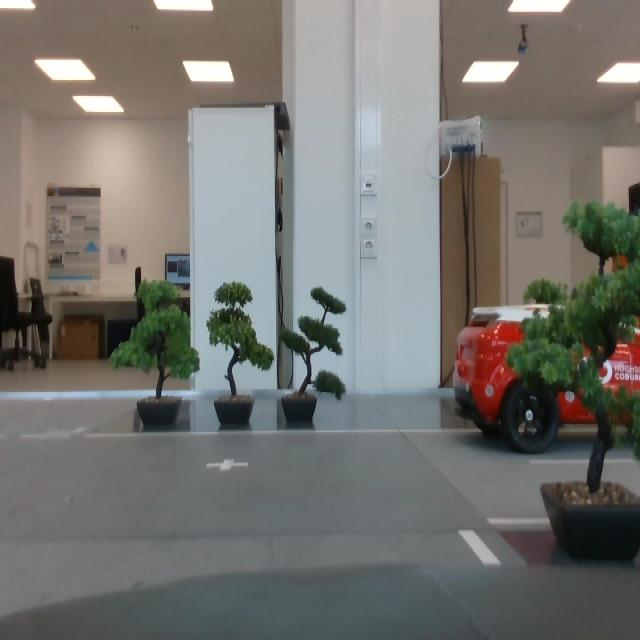car: (453, 304, 640, 454)
potted plant: (508, 201, 640, 558), (109, 277, 200, 425), (206, 280, 275, 425), (279, 285, 347, 422)
